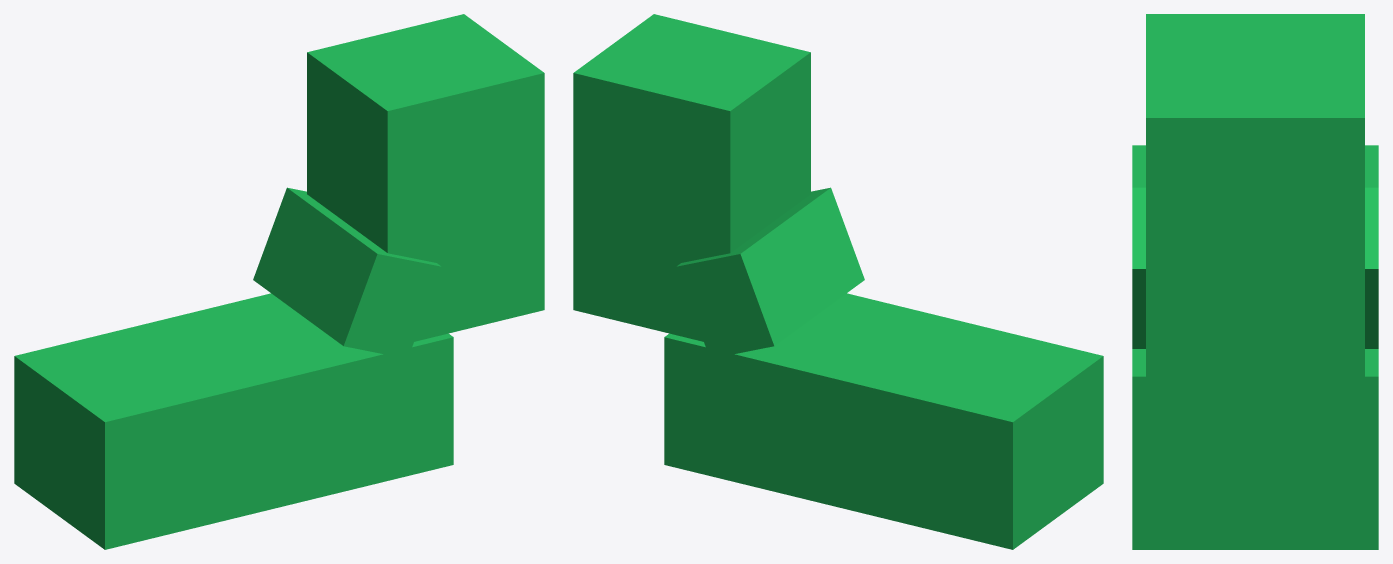
The model's file is l-fixture.glb.
3 views of the same model, side by side, from view 1: azimuth 30°, elevation 25°; view 2: azimuth 150°, elevation 25°; view 3: azimuth 270°, elevation 25° (orthographic). The views are drawn at different scales.
Bounding box in the file's own units: 128 × 100 × 45.
